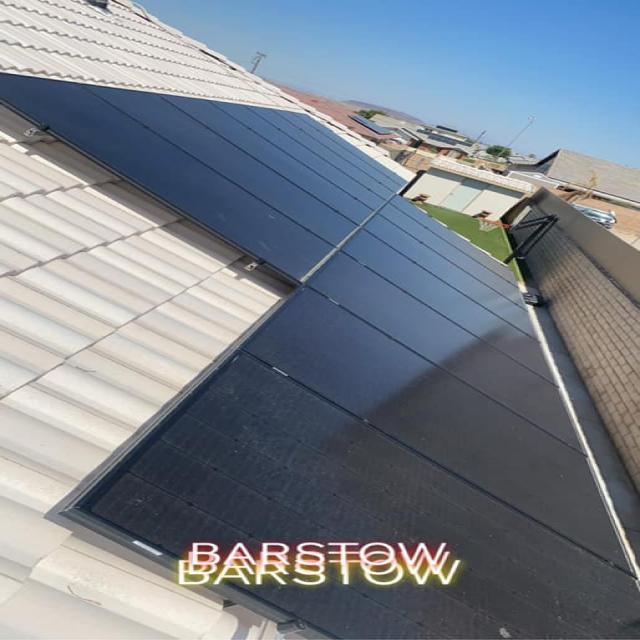dust-solar-panel: (85, 359, 640, 640)
